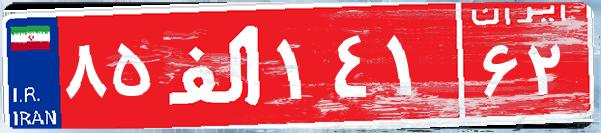1: (385, 28, 445, 110), (273, 28, 330, 110)
2: (525, 38, 570, 115)
4: (330, 28, 385, 110)
5: (110, 28, 158, 105)
6: (475, 38, 525, 113)
8: (57, 26, 110, 107)
الف: (158, 15, 273, 115)
